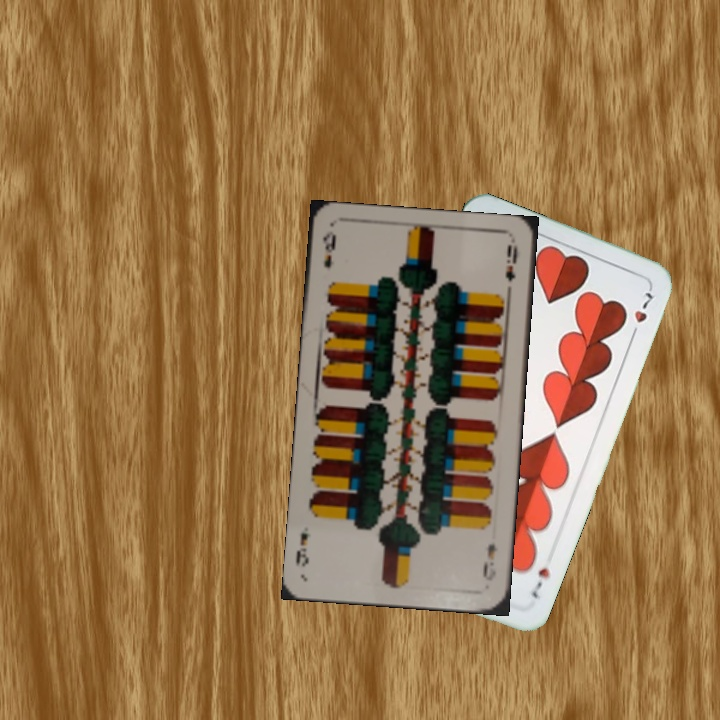E9: (479, 540, 499, 583), (319, 227, 338, 270)
H7: (528, 563, 552, 601)
